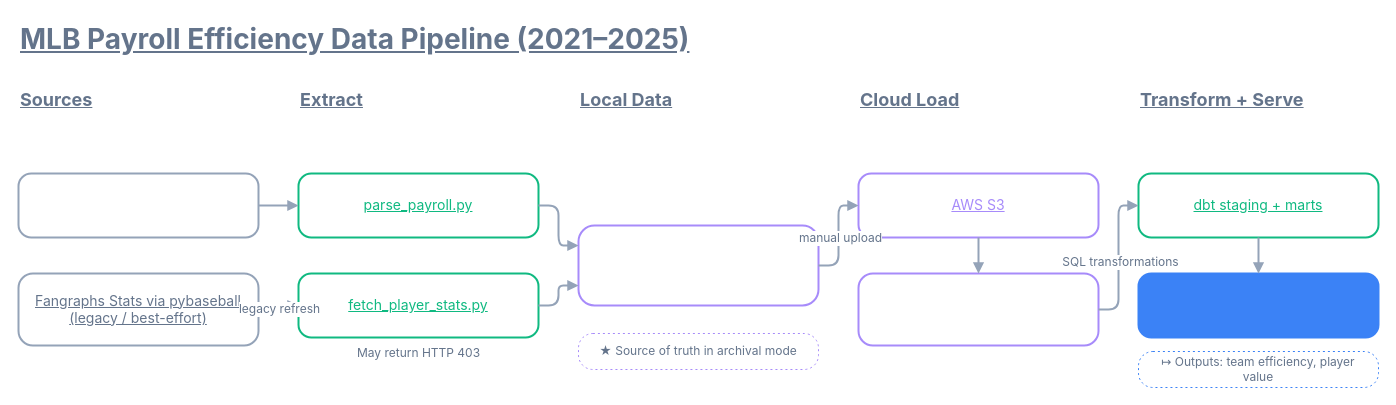
This 1396x405 diagram has some shape labels left out. Here are the shapes that lost their labels. From the top down, the centre of each, then its label:
At [138,205]: "Fangraphs Payroll (.xlsx)".
At [698,265]: "Parquet snapshots (canonical for analysis)".
At [978,309]: "Snowflake RAW (COPY INTO)".
At [1258,305]: "Streamlit dashboard".
